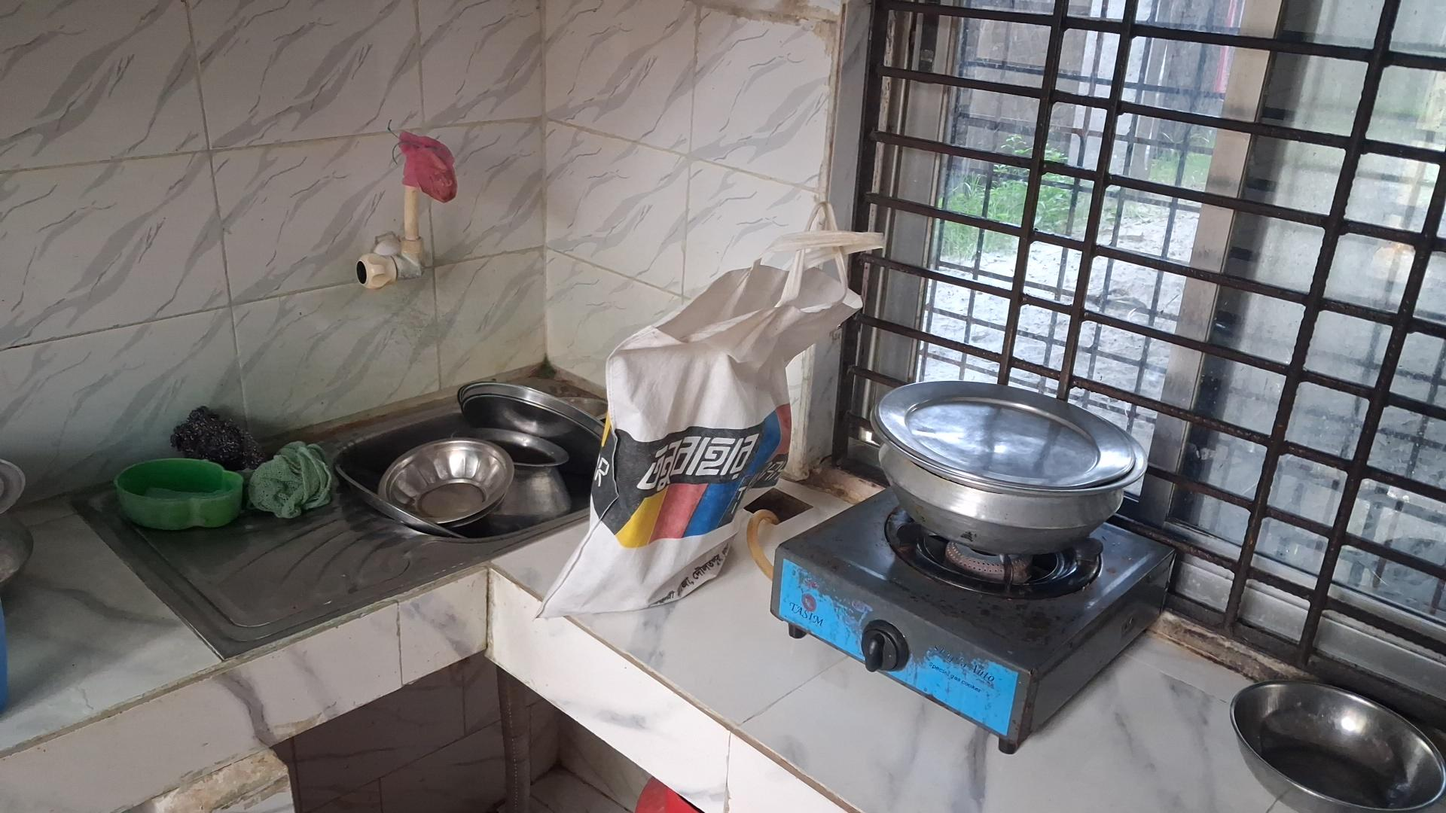Bag: (543, 212, 860, 613)
Bowl: (1232, 669, 1446, 805), (380, 437, 515, 528)
Jar: (114, 457, 245, 531)
Pot: (871, 381, 1146, 561)
